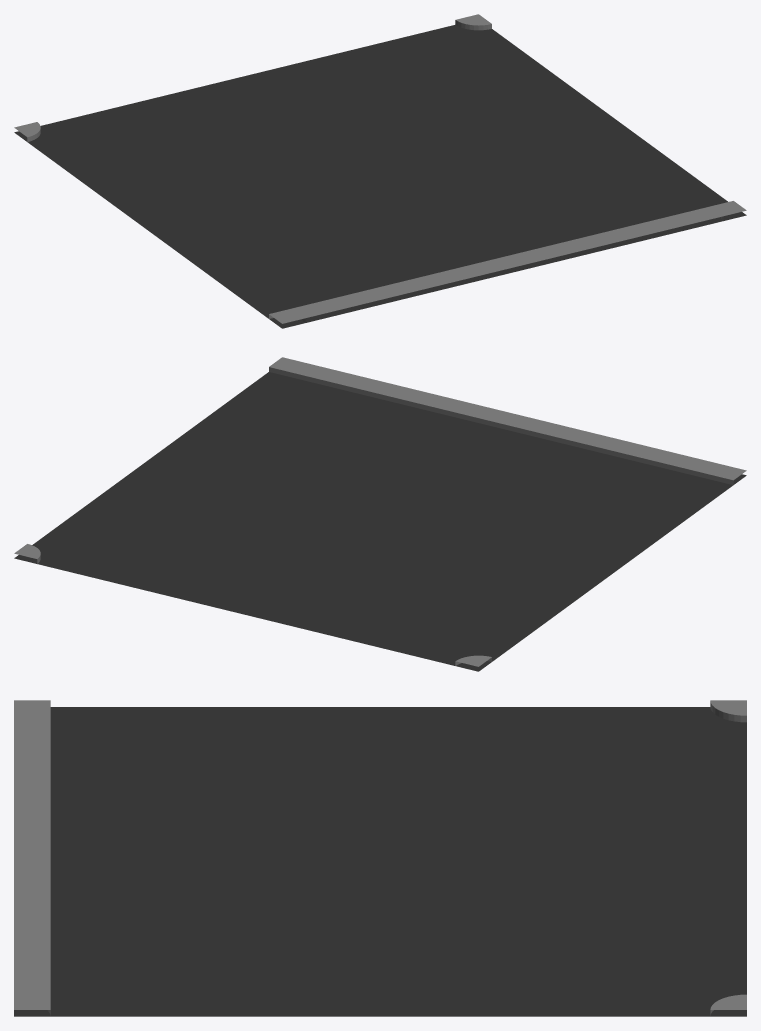
The model's file is RoadSystemIntersections.fbx.
3 views of the same model, one above another, from view 1: azimuth 30°, elevation 25°; view 2: azimuth 150°, elevation 25°; view 3: azimuth 270°, elevation 25° (orthographic). The views are drawn at different scales.
Parts seen in each view (by area): view 1: cross_20x20LOD0, TJunc_20x20LOD0; view 2: cross_20x20LOD0, TJunc_20x20LOD0; view 3: cross_20x20LOD0, TJunc_20x20LOD0.
Part boxes in pixels (bbox=[...]): cross_20x20LOD0: bbox=[14, 14, 746, 328]; TJunc_20x20LOD0: bbox=[269, 201, 746, 322]; cross_20x20LOD0: bbox=[14, 357, 746, 671]; TJunc_20x20LOD0: bbox=[269, 357, 743, 484]; cross_20x20LOD0: bbox=[14, 700, 746, 1016]; TJunc_20x20LOD0: bbox=[14, 700, 50, 1009].
Size of what is drawn, in the model's own units: 2000 by 20 by 2000.
